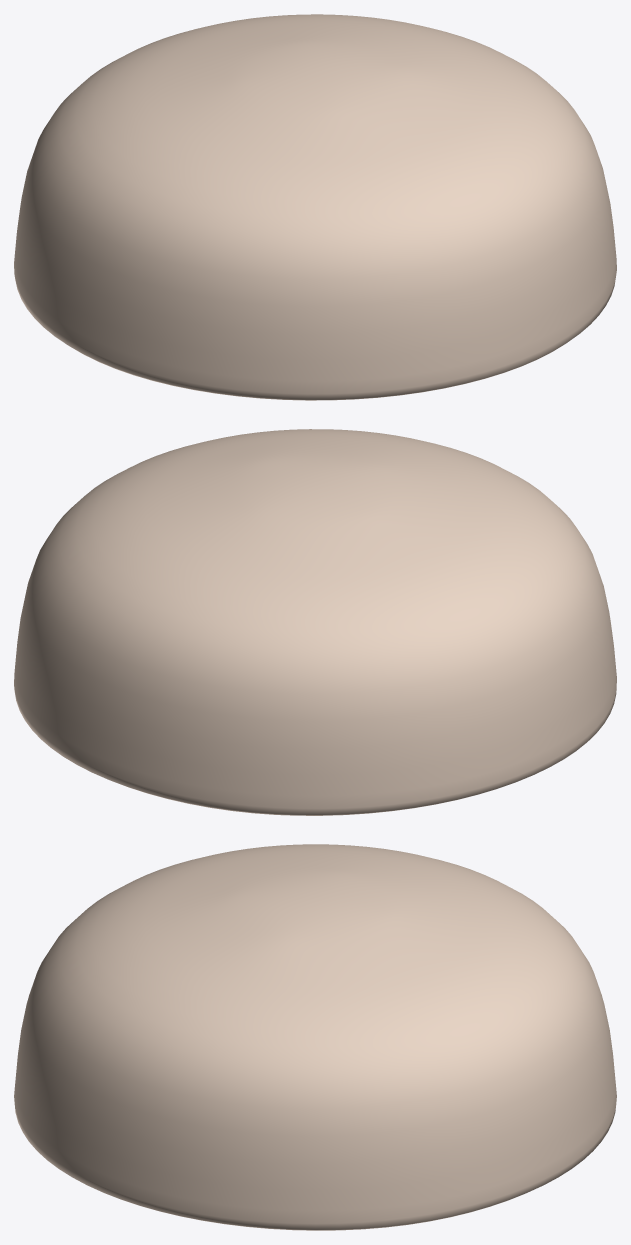
Rendered from WoodTopMudboxFinal_low.fbx.
The picture shows the model from 3 angles, top to bottom: view 1: azimuth 30°, elevation 25°; view 2: azimuth 150°, elevation 25°; view 3: azimuth 270°, elevation 25°; orthographic projection.
Parts seen in each view (by area): view 1: polySurface5_2; view 2: polySurface5_2; view 3: polySurface5_2.
Part boxes in pixels (x1=…): polySurface5_2: x1=14, y1=14, x2=616, y2=400; polySurface5_2: x1=14, y1=429, x2=616, y2=815; polySurface5_2: x1=14, y1=844, x2=616, y2=1230.
Bounding box in the file's own units: 16.72 × 6.31 × 16.72.
